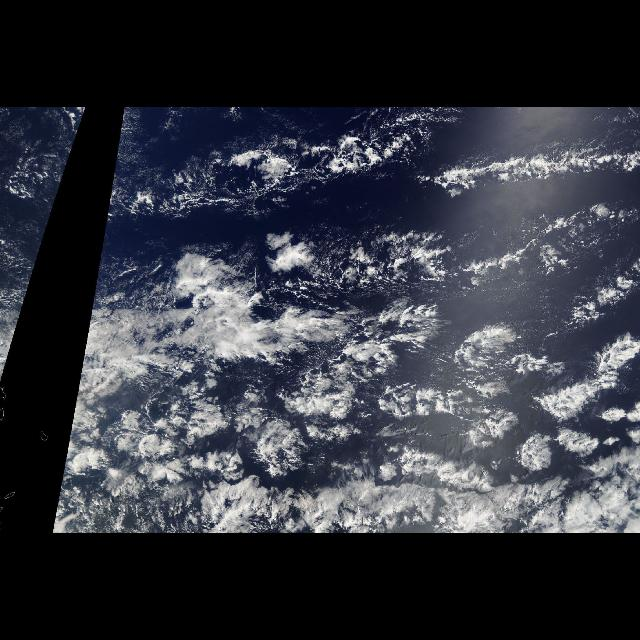Fish: (158, 131, 640, 305)
Flower: (88, 309, 640, 533)
